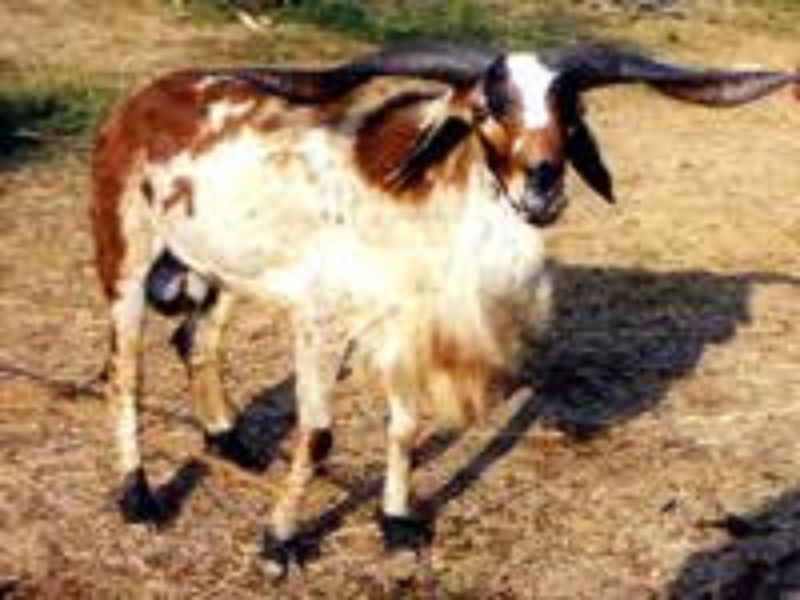sheep: (62, 22, 763, 572)
